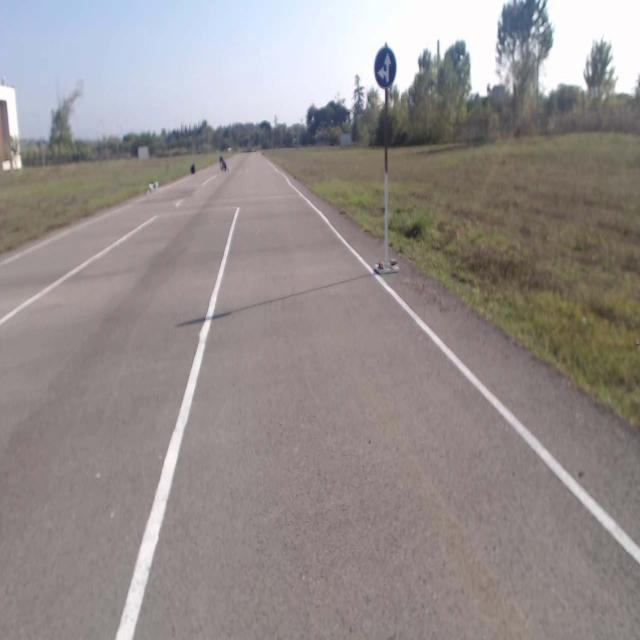ilerisol: (374, 48, 396, 88)
